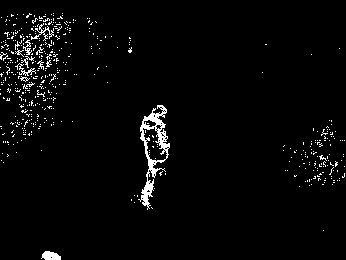person: (135, 104, 171, 210)
